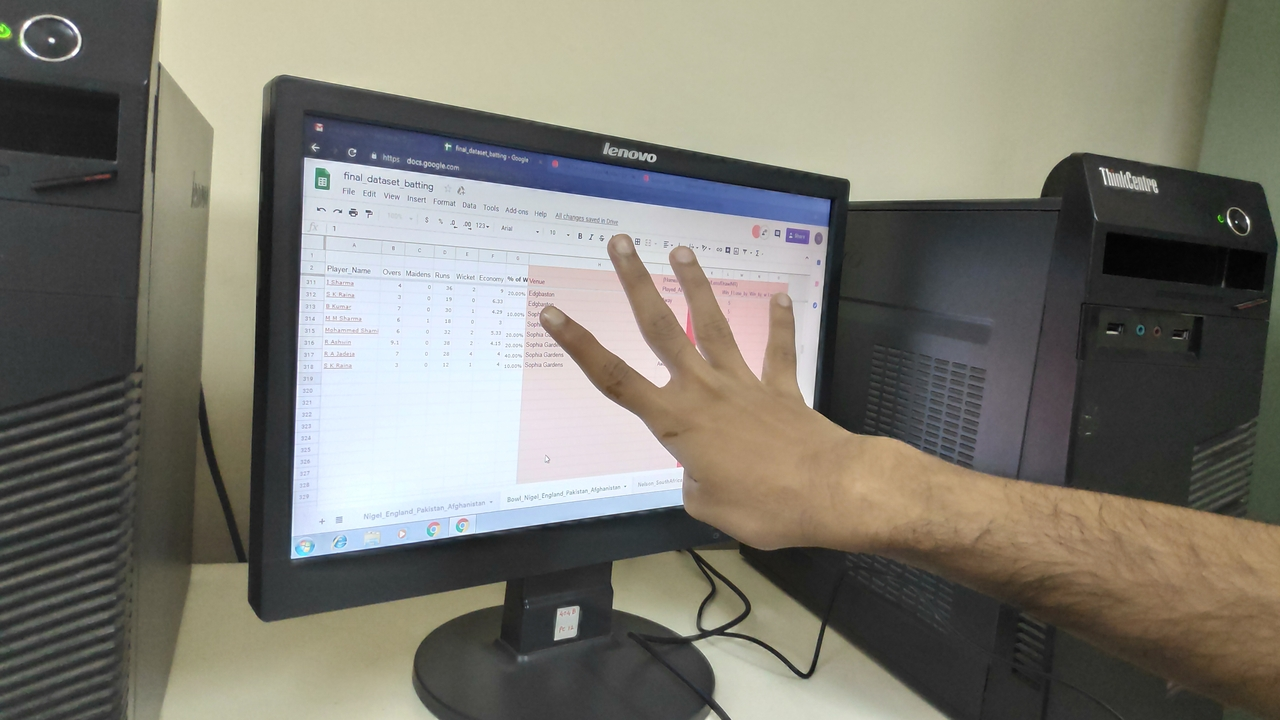fingertip: (526, 296, 588, 344), (596, 222, 652, 266), (658, 238, 714, 280), (762, 287, 803, 318)
